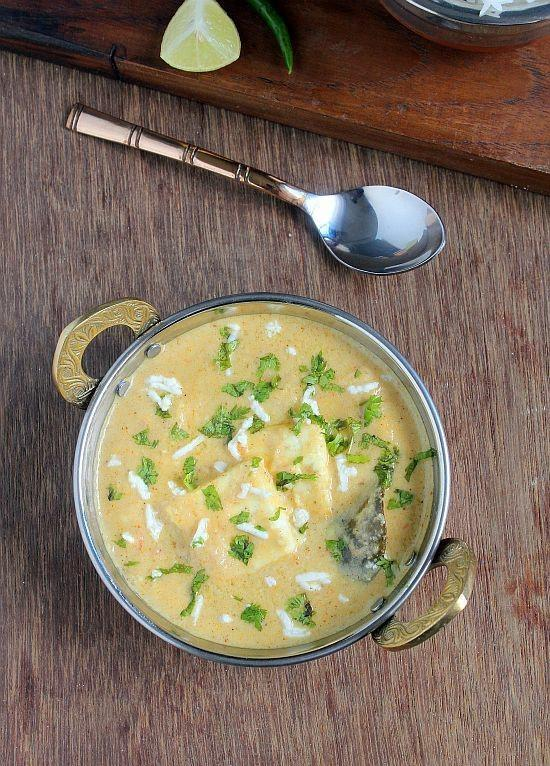ShahiPaneer: (104, 314, 433, 658)
